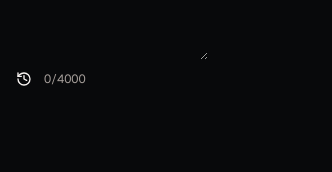
Test case: PromptHeaderControls › updates character count when input event fires
The width and height of the screenshot is (332, 172).
Earlier steps of the test are not shown.
Expected: the text with test id "prompt-header-character-count" reads "0/4000", [44,71,86,87]
In the text box: [110, 36] box [12,12,208,60], type "Hello"
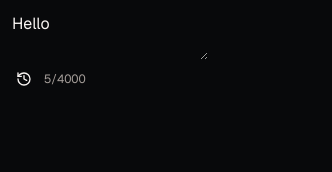
Expected: the text with test id "prompt-header-character-count" reads "5/4000", [44,71,86,87]
